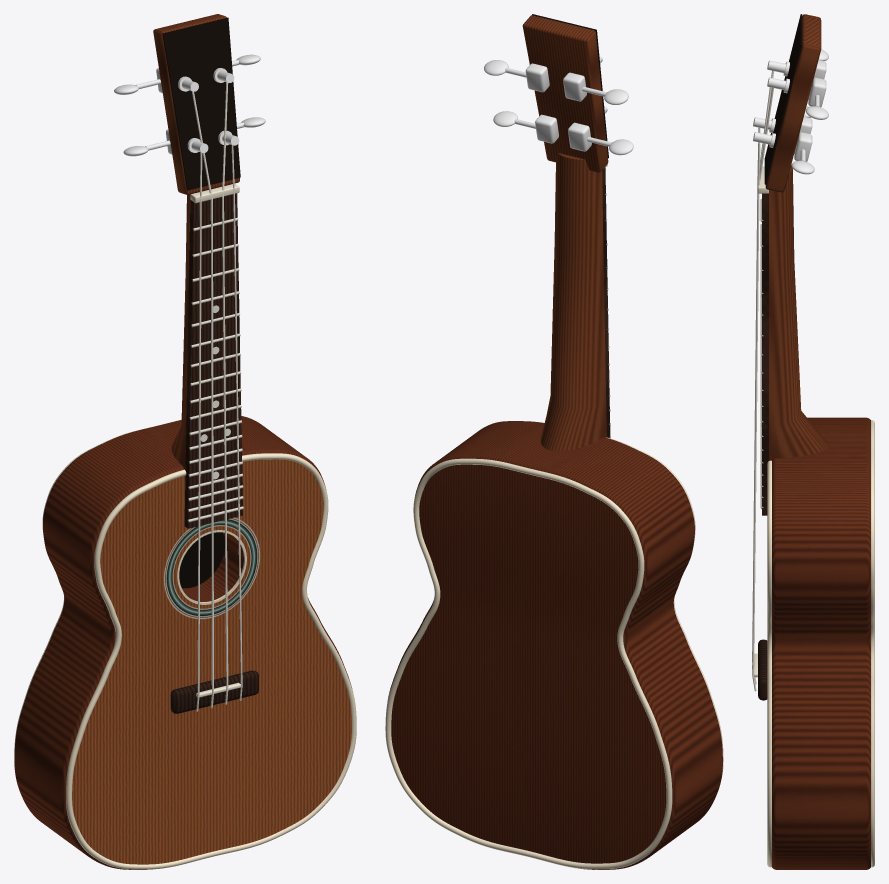
Rendered from ukulele.glb.
3 renders of one model, left to right at view 1: azimuth 30°, elevation 25°; view 2: azimuth 150°, elevation 25°; view 3: azimuth 270°, elevation 25°, orthographic.
Visible parts, largest first — view 1: Tampo, Corpo, Escala, MascaraMao, Friso, Nylon, Trastes, Cromo, Mao, Cavalete, Fundo, Braco (+1 smaller); view 2: Corpo, Braco, Friso, Mao, Cromo, Escala; view 3: Corpo, Braco, Friso, Mao, Cromo, Escala, Nylon, MascaraMao, Trastes, Cavalete, Osso.
Part boxes in pixels (<box>): Tampo: <box>72,459,351,864</box>; Corpo: <box>14,416,352,869</box>; Escala: <box>184,193,242,528</box>; MascaraMao: <box>162,17,240,190</box>; Friso: <box>14,419,356,869</box>; Nylon: <box>191,82,242,711</box>; Trastes: <box>187,217,243,522</box>; Cromo: <box>114,54,265,156</box>; Mao: <box>153,14,239,194</box>; Cavalete: <box>170,670,258,713</box>; Fundo: <box>179,532,224,588</box>; Braco: <box>171,194,190,470</box>; Corpo: <box>388,421,722,869</box>; Braco: <box>540,153,606,451</box>; Friso: <box>385,422,723,869</box>; Mao: <box>522,15,608,172</box>; Cromo: <box>484,55,633,155</box>; Escala: <box>602,167,610,437</box>; Corpo: <box>772,417,870,869</box>; Braco: <box>769,165,829,460</box>; Friso: <box>767,420,874,867</box>; Mao: <box>765,14,821,192</box>; Cromo: <box>753,49,828,174</box>; Escala: <box>762,193,768,515</box>; Nylon: <box>752,70,773,691</box>; MascaraMao: <box>764,14,802,184</box>; Trastes: <box>760,198,763,509</box>; Cavalete: <box>758,639,767,700</box>; Osso: <box>754,166,768,677</box>.
Bounding box in the file's own units: 0.2385 × 0.6366 × 0.0878.
Materials: 14 (6 with a texture image).
